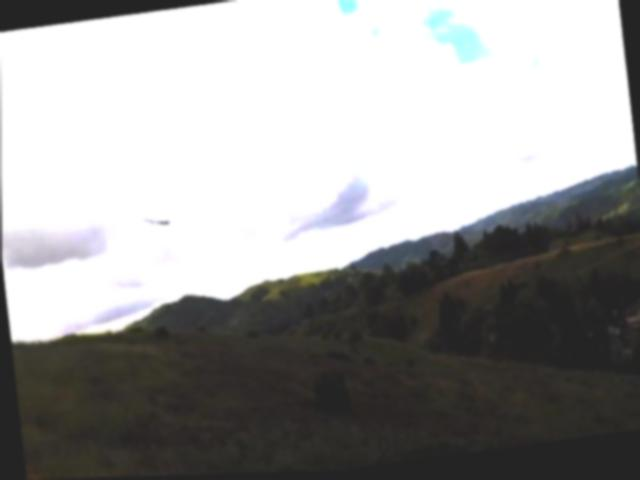iha: (136, 206, 186, 235)
